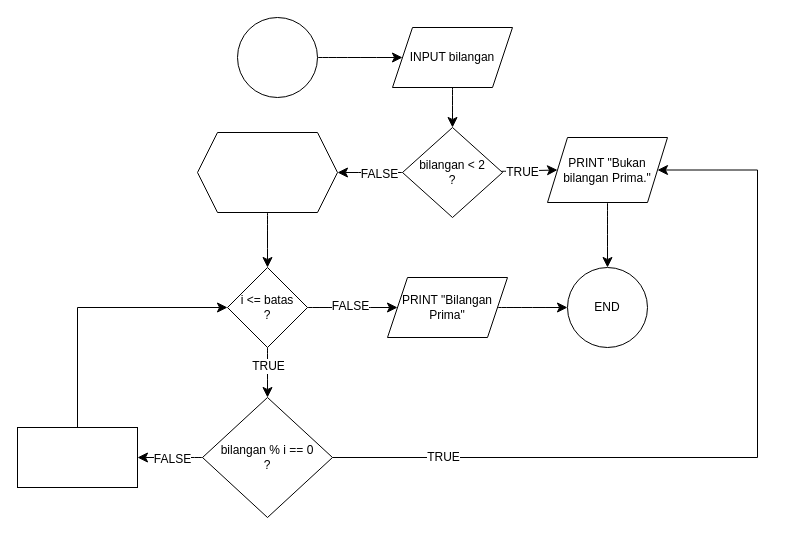
The diagram is 785 pixels wide and 535 high, and some of its shapes have lost their labels. Here are the shapes that lost their labels. From the top down, the centre of each, then its label:
At (x=277, y=57): "START".
At (x=267, y=172): "i = 2 batas = bilangan ** 0.5".
At (x=77, y=457): "i = i + 1".
